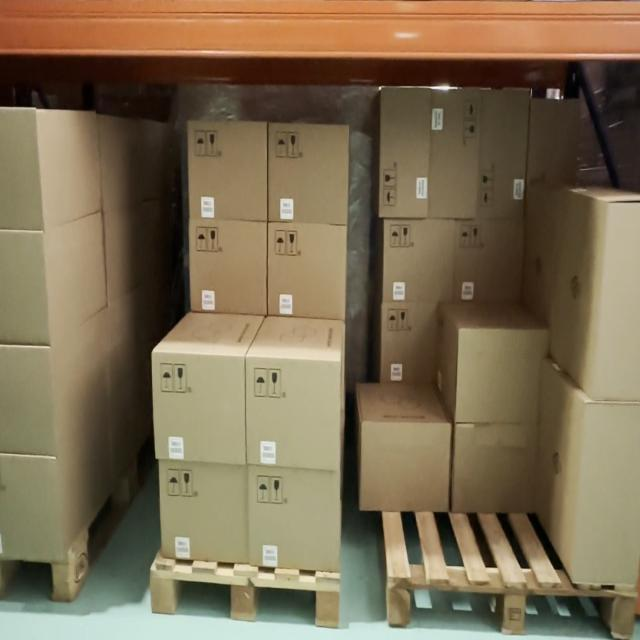box: (574, 403, 640, 589), (247, 358, 339, 467), (591, 200, 640, 403), (155, 353, 246, 458), (160, 462, 248, 560), (252, 472, 340, 566), (455, 333, 543, 422), (362, 423, 448, 512), (270, 123, 347, 222), (190, 123, 266, 219), (453, 427, 538, 508), (268, 226, 346, 314), (0, 452, 63, 558), (0, 344, 57, 456), (192, 224, 265, 309), (380, 92, 428, 217), (0, 229, 51, 345), (478, 93, 526, 215), (385, 222, 452, 304), (0, 107, 45, 229), (433, 91, 474, 217), (454, 221, 520, 298), (382, 304, 437, 380)
